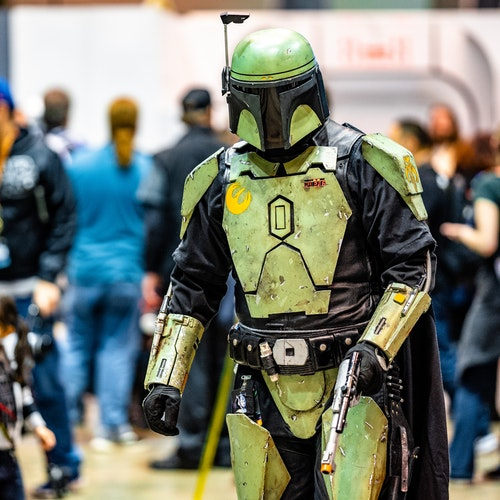helmet: (218, 26, 334, 152)
